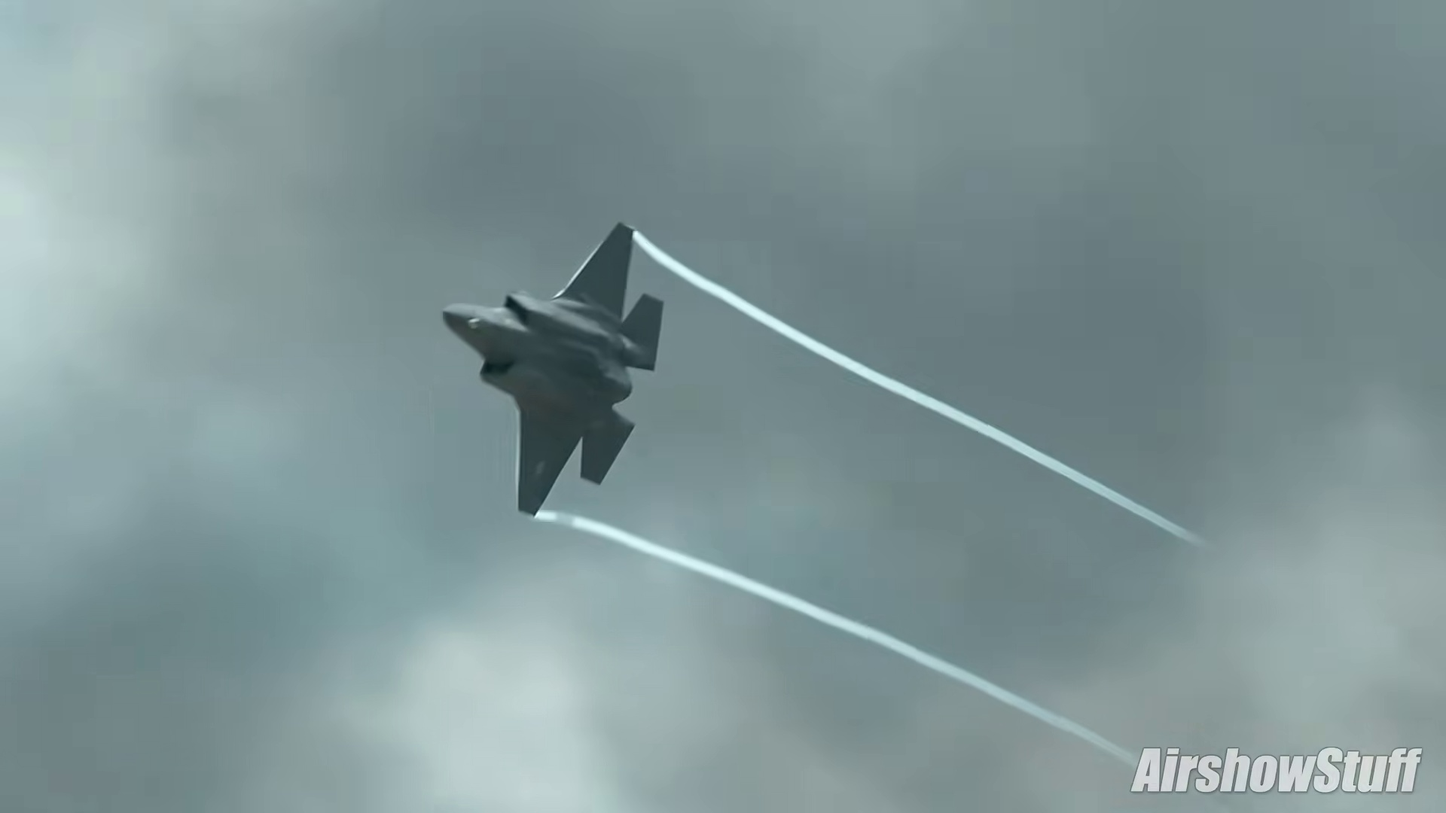F35: (437, 213, 668, 518)
